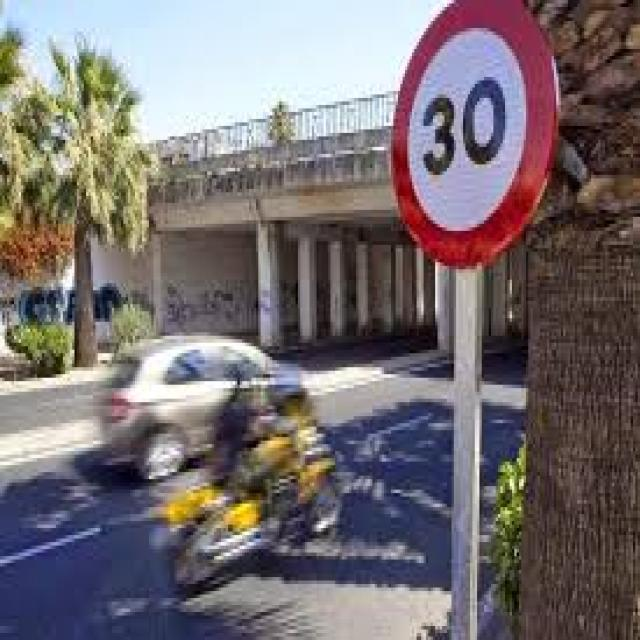Speed limit 30: (387, 1, 561, 270)
